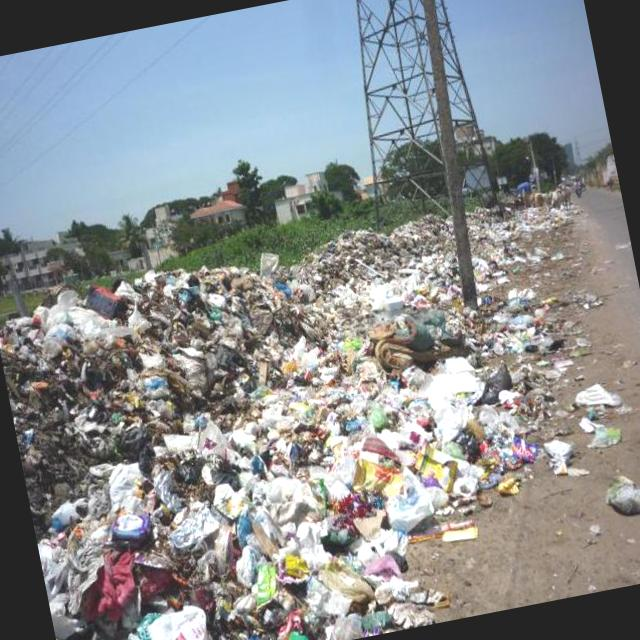garbage: (0, 190, 575, 640)
